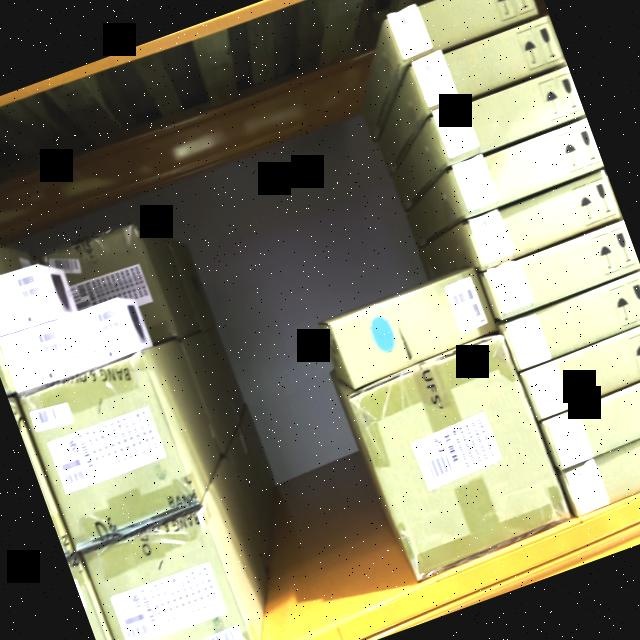box: (350, 346, 572, 578), (20, 356, 199, 550), (84, 514, 258, 640), (328, 273, 495, 388), (437, 70, 586, 163), (418, 18, 566, 110), (458, 124, 605, 216), (387, 0, 540, 60), (61, 302, 136, 371), (0, 322, 72, 388), (0, 264, 56, 334)
